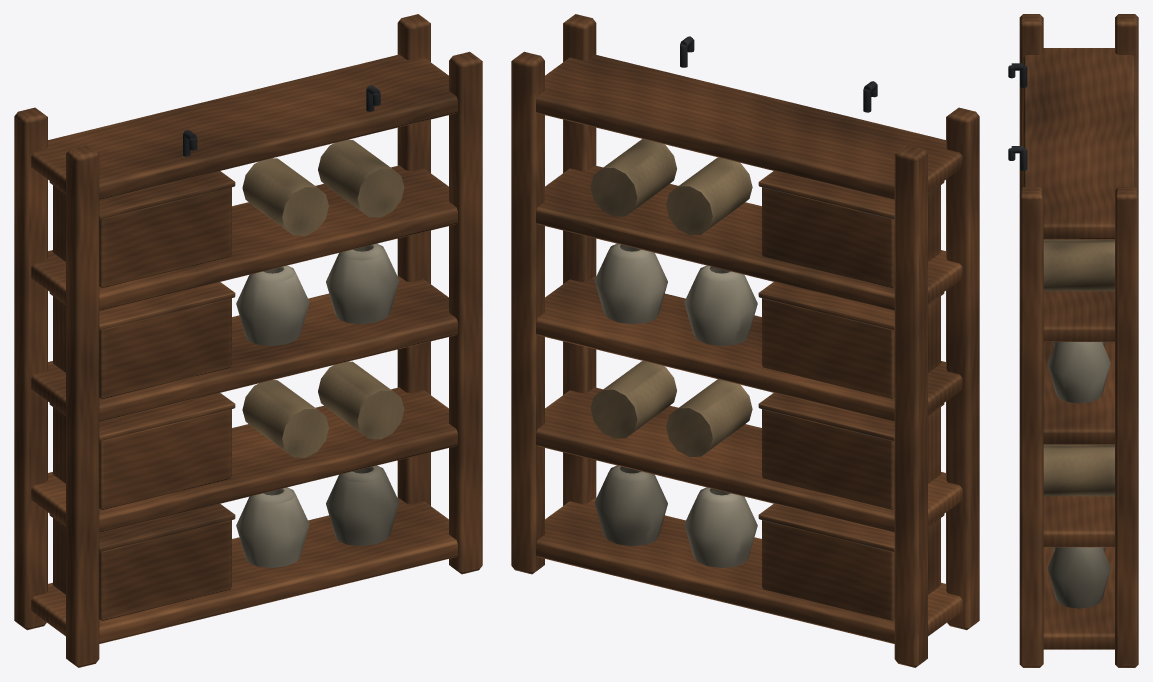
The model's file is Furn_Storage_TallShelf.fbx.
The picture shows the model from 3 angles, left to right: view 1: azimuth 30°, elevation 25°; view 2: azimuth 150°, elevation 25°; view 3: azimuth 270°, elevation 25°; orthographic projection. The views are drawn at different scales.
Parts seen in each view (by area): view 1: Furn_Storage_TallShelf; view 2: Furn_Storage_TallShelf; view 3: Furn_Storage_TallShelf.
Boxes of the visible parts, x1,y1,x2,y2 form: Furn_Storage_TallShelf: [14, 14, 482, 667]; Furn_Storage_TallShelf: [511, 14, 979, 667]; Furn_Storage_TallShelf: [1008, 14, 1138, 667].
Size of the model in its own units: 2 by 2.4 by 0.6.
4 materials, 4 textured.
